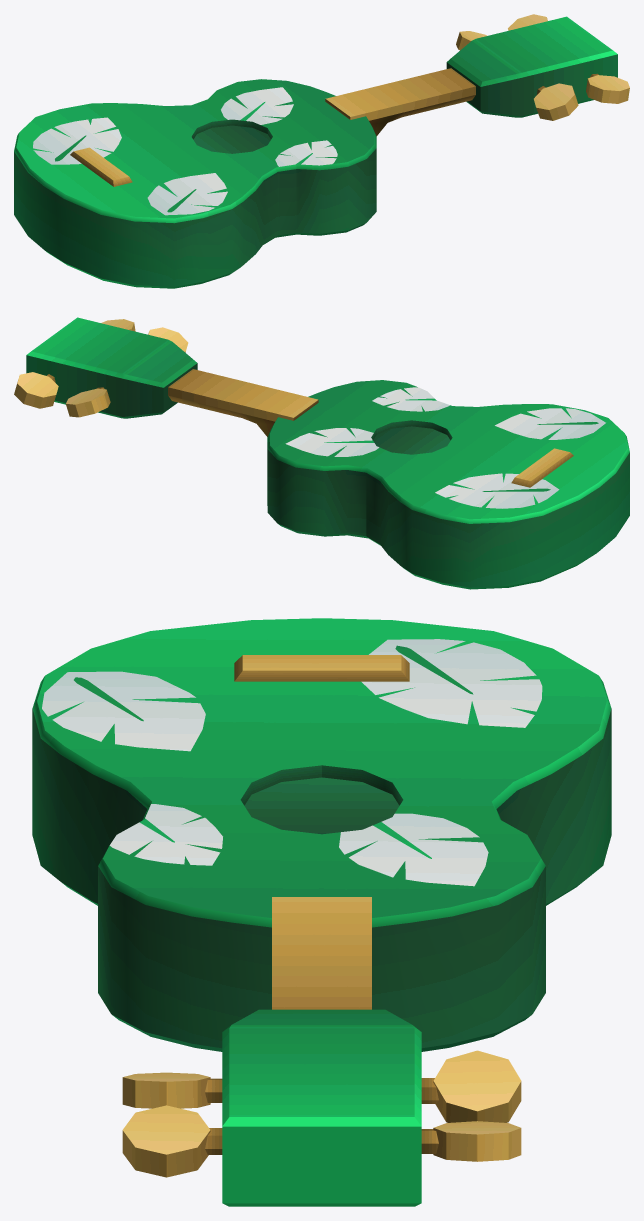
File: hawaiiBoard02.glb
The picture shows the model from 3 angles, top to bottom: view 1: azimuth 30°, elevation 25°; view 2: azimuth 150°, elevation 25°; view 3: azimuth 270°, elevation 25°; orthographic projection. The views are drawn at different scales.
Visible parts, largest first — view 1: hawaiiBoard02; view 2: hawaiiBoard02; view 3: hawaiiBoard02.
Boxes of the visible parts, x1,y1,x2,y2 form: hawaiiBoard02: (14, 14, 629, 288); hawaiiBoard02: (14, 317, 629, 589); hawaiiBoard02: (32, 618, 611, 1206).
Bounding box in the file's own units: 9.46 × 1.43 × 4.32.
1 material, 1 textured.
